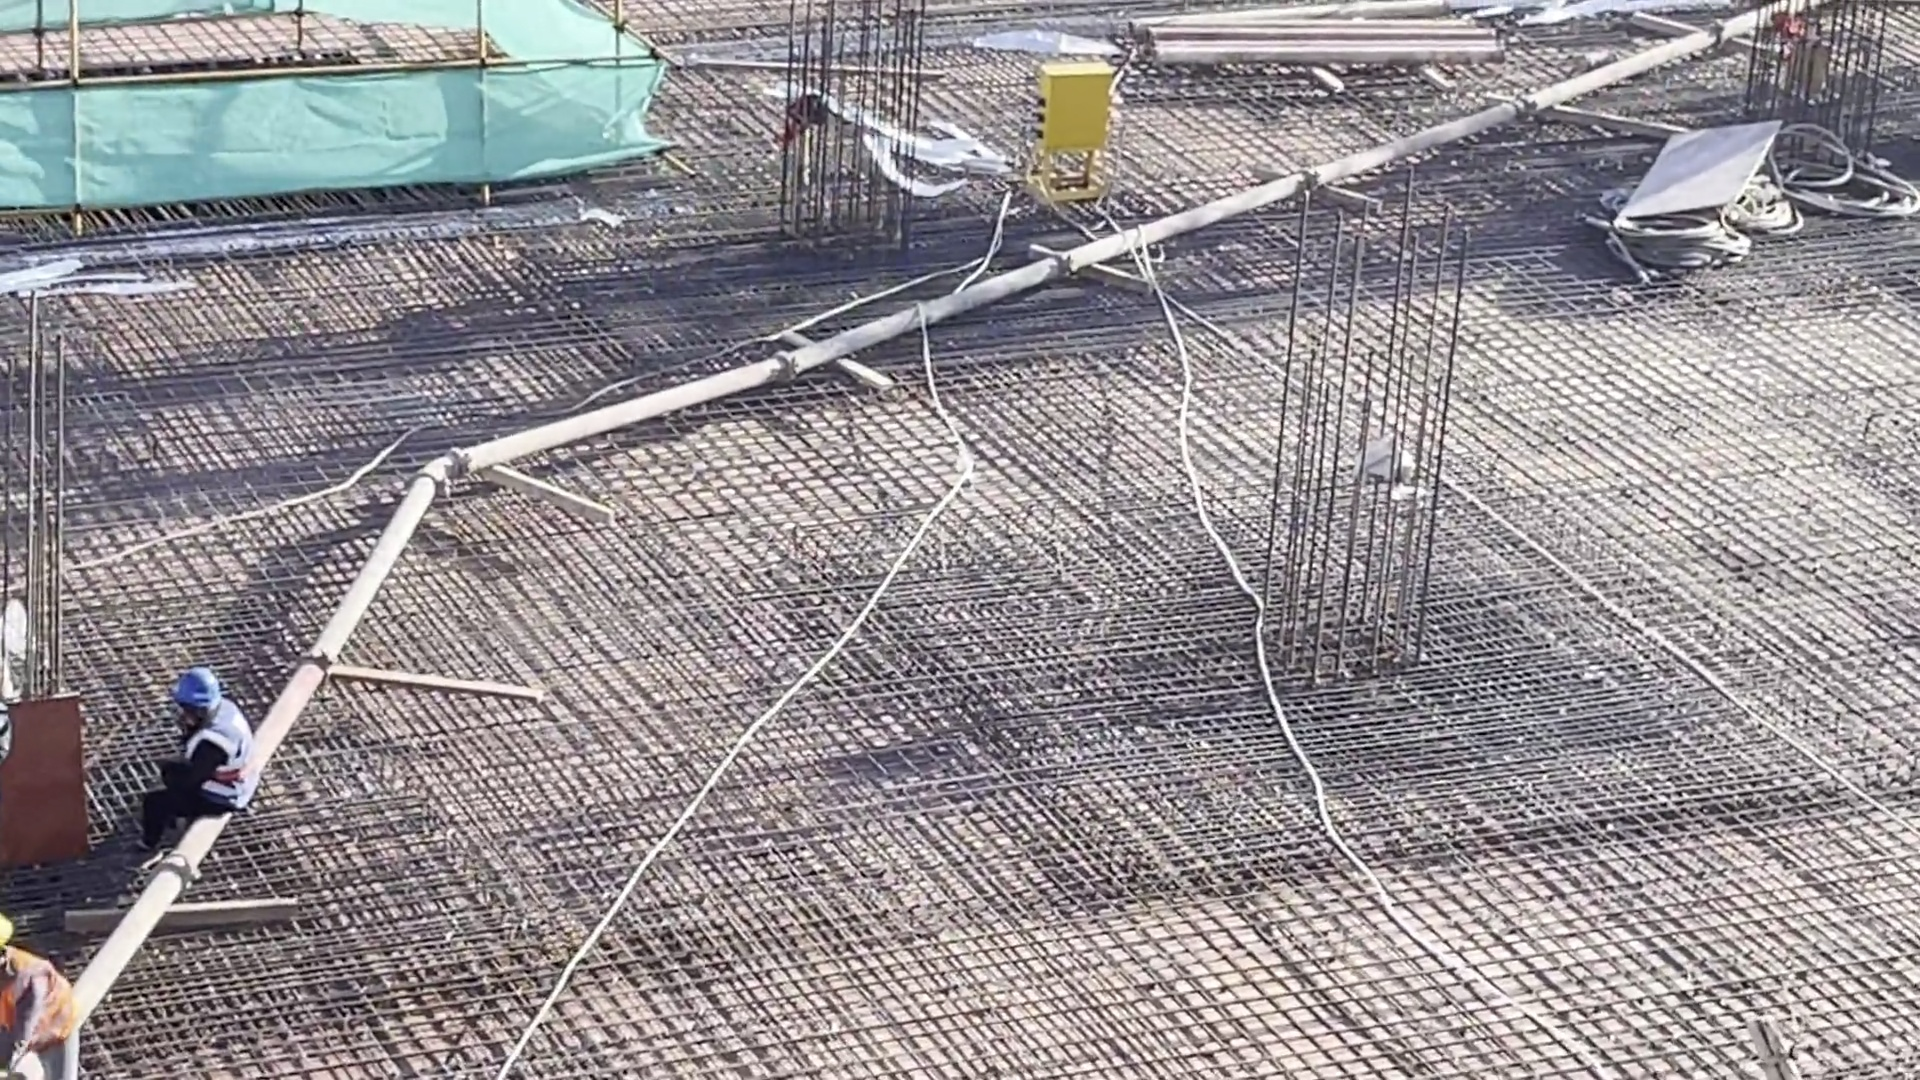ebox: (1028, 70, 1110, 158)
helmet: (177, 674, 219, 709), (1, 918, 21, 947)
person: (138, 670, 263, 853), (1, 908, 92, 1080)
vest: (1, 961, 81, 1049), (182, 725, 258, 807)
